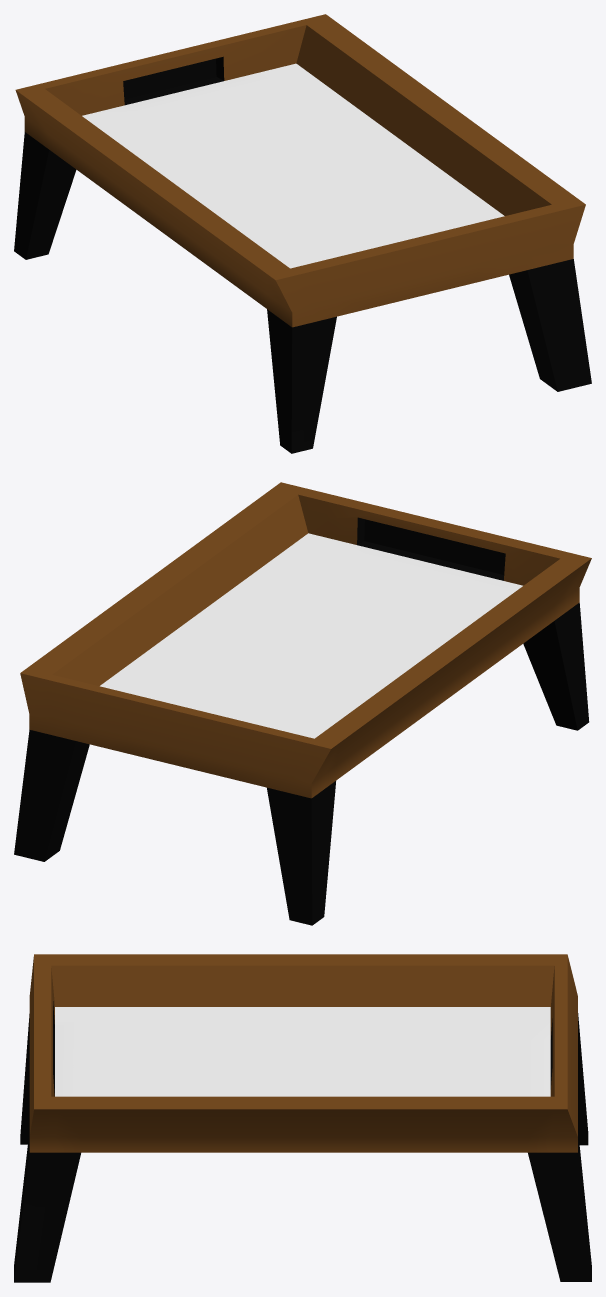
File: DSA2_AirHockey3D_Table_Revised_HongJ.obj
The picture shows the model from 3 angles, top to bottom: view 1: azimuth 30°, elevation 25°; view 2: azimuth 150°, elevation 25°; view 3: azimuth 270°, elevation 25°; orthographic projection. The views are drawn at different scales.
Visible parts, largest first — view 1: table_hongJ; view 2: table_hongJ; view 3: table_hongJ.
Boxes of the visible parts, left/top/right/bottom form: table_hongJ: left=14, top=14, right=591, bottom=453; table_hongJ: left=14, top=482, right=591, bottom=925; table_hongJ: left=14, top=954, right=591, bottom=1282.
Bounding box in the file's own units: 6.54 × 3.44 × 10.28.
